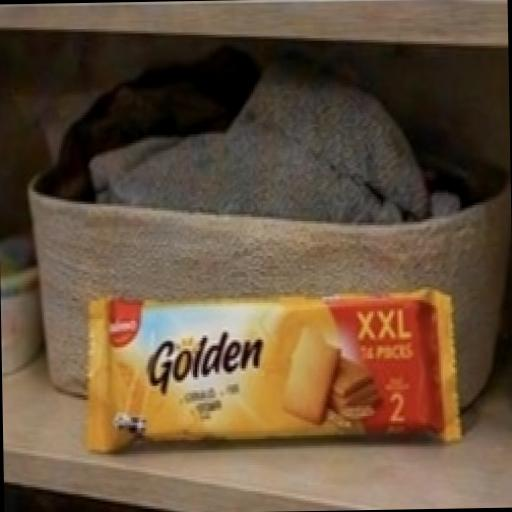golden: (55, 272, 492, 512)
